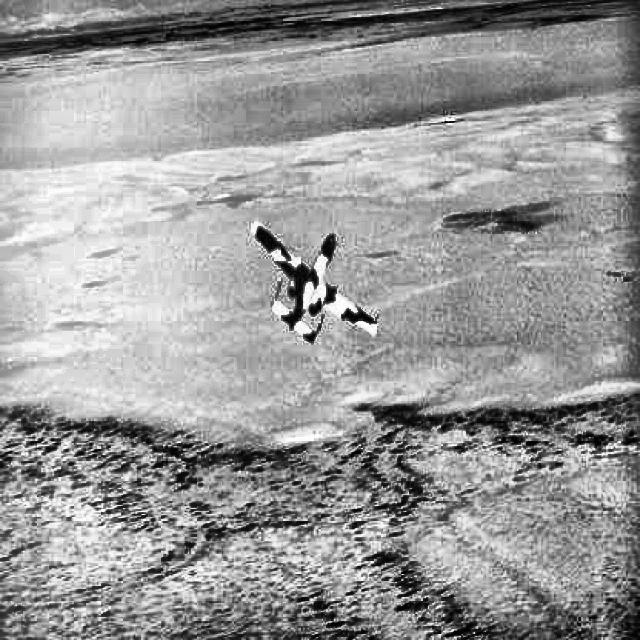A10: (248, 220, 379, 346)
